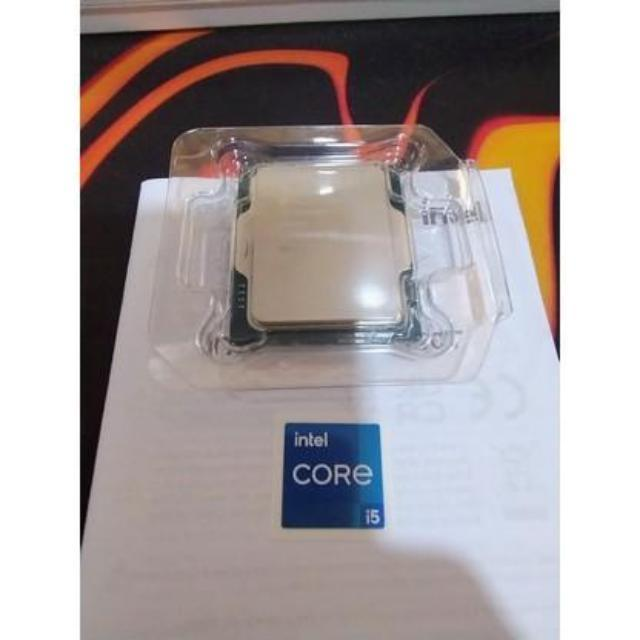CPU: (240, 161, 412, 341)
